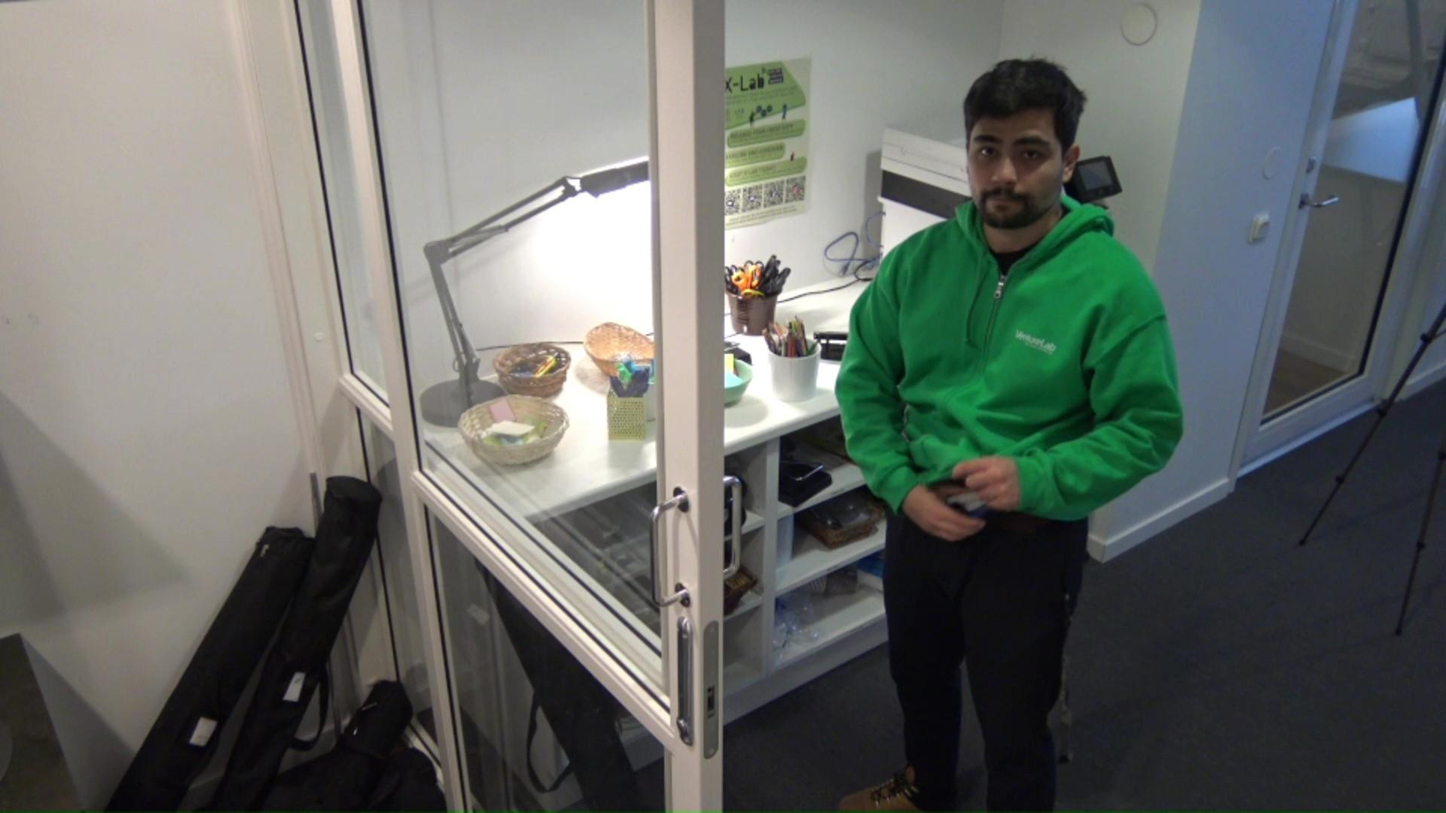shoplifting: (844, 64, 1179, 813)
